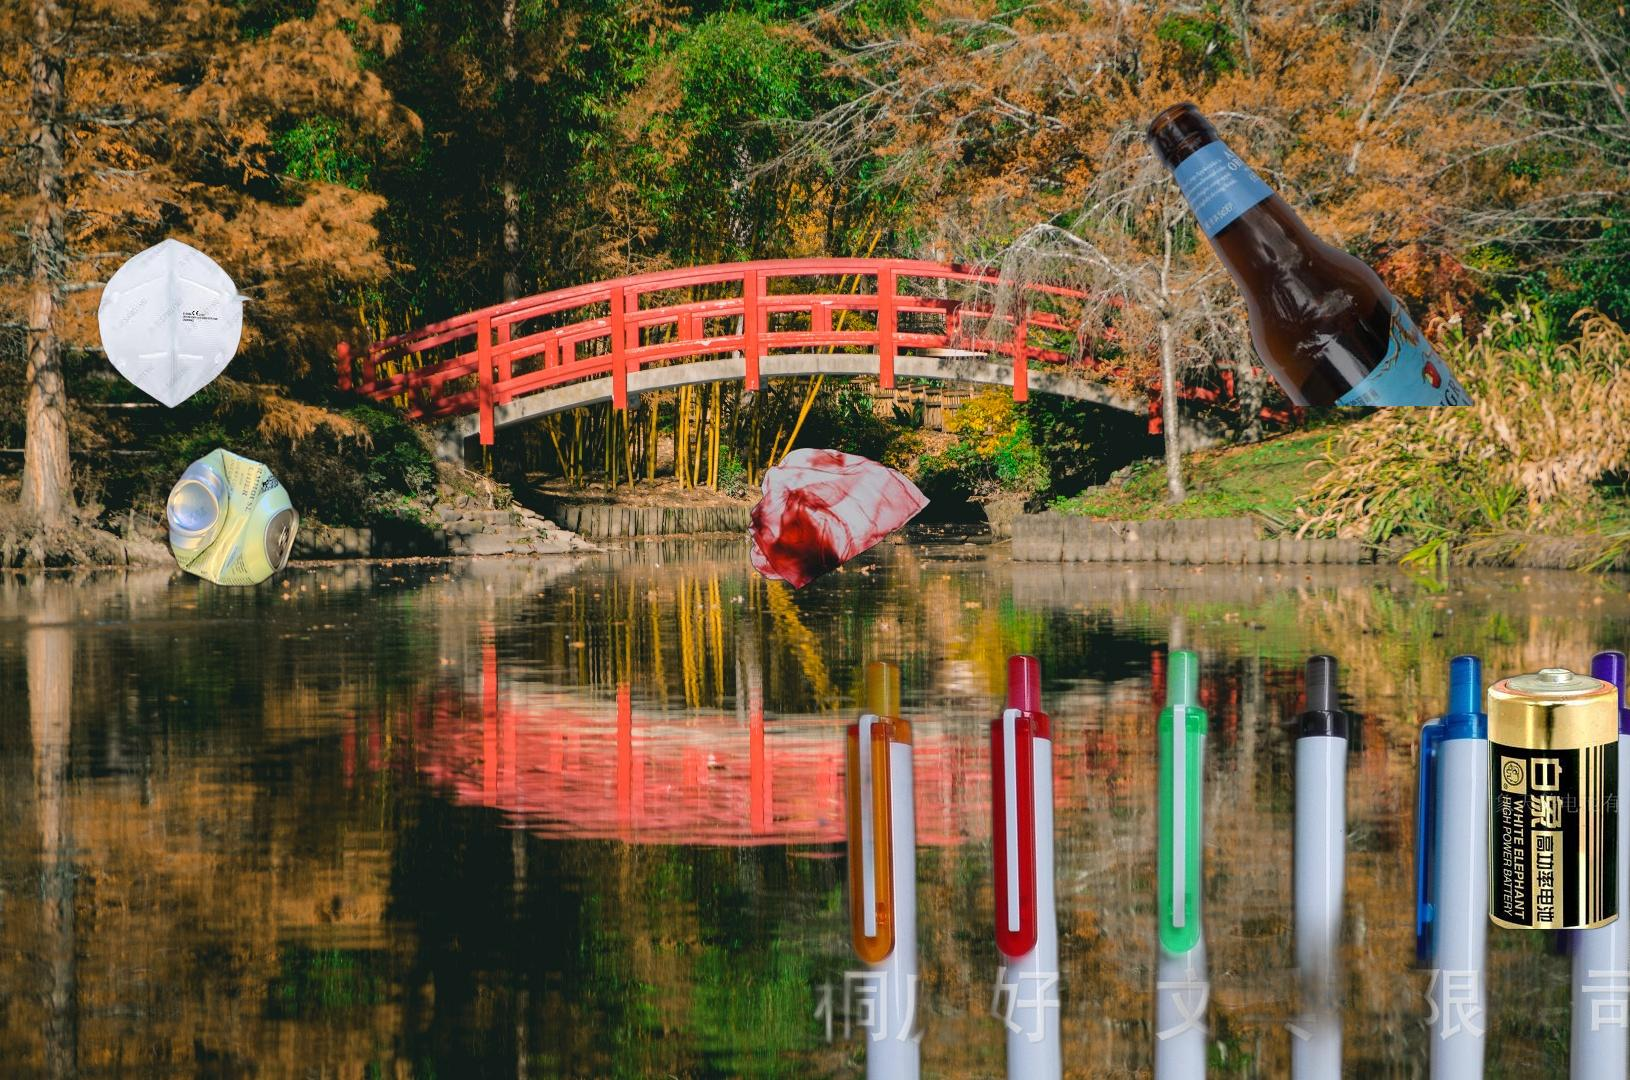battery: (1484, 665, 1622, 932)
glass: (1141, 98, 1479, 406)
metal-cans: (92, 442, 510, 1057)
penholder: (804, 638, 1630, 1080)
plastic-bag: (746, 445, 934, 594)
plastic-bottles: (1625, 394, 1630, 557)
trash: (35, 234, 272, 419)
